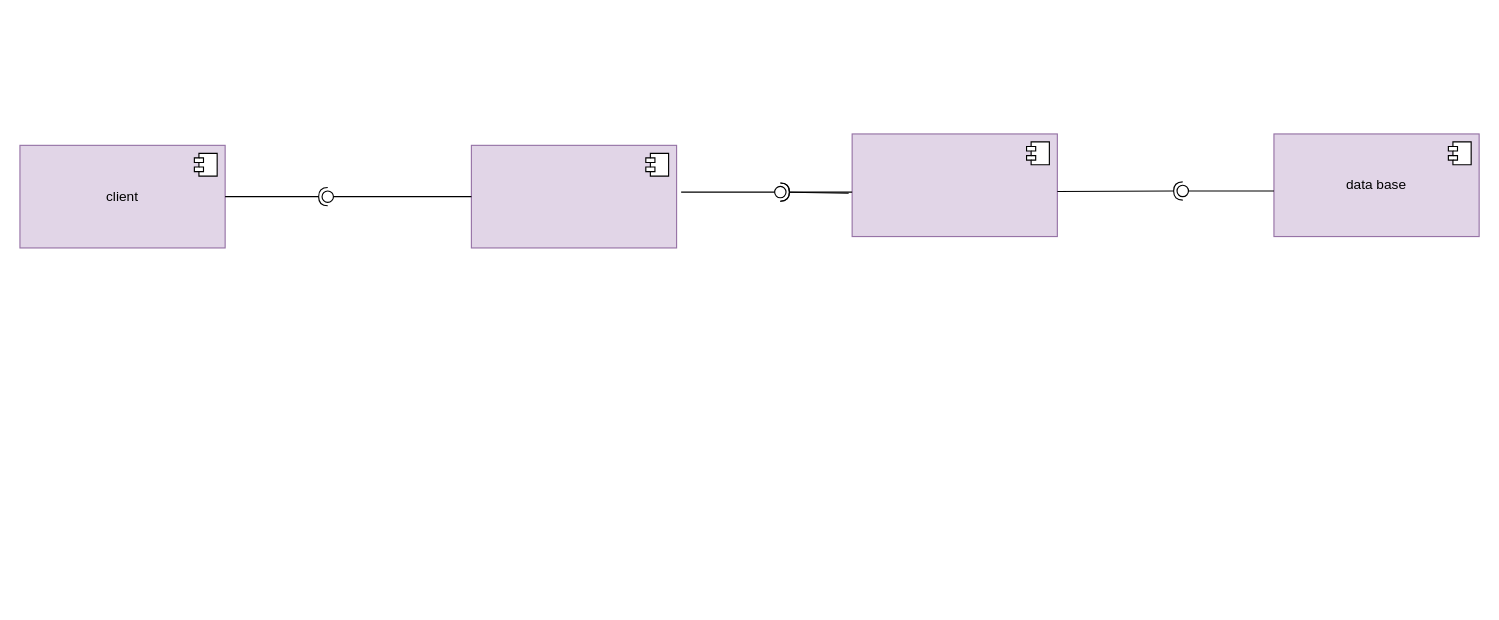
Image size: 1499x620. Some labels were removed from this diagram. Here are the shapes that lost their labels. From the top down, the box of each, then its label:
(470, 144, 677, 248): web-server
(851, 133, 1057, 237): application server
